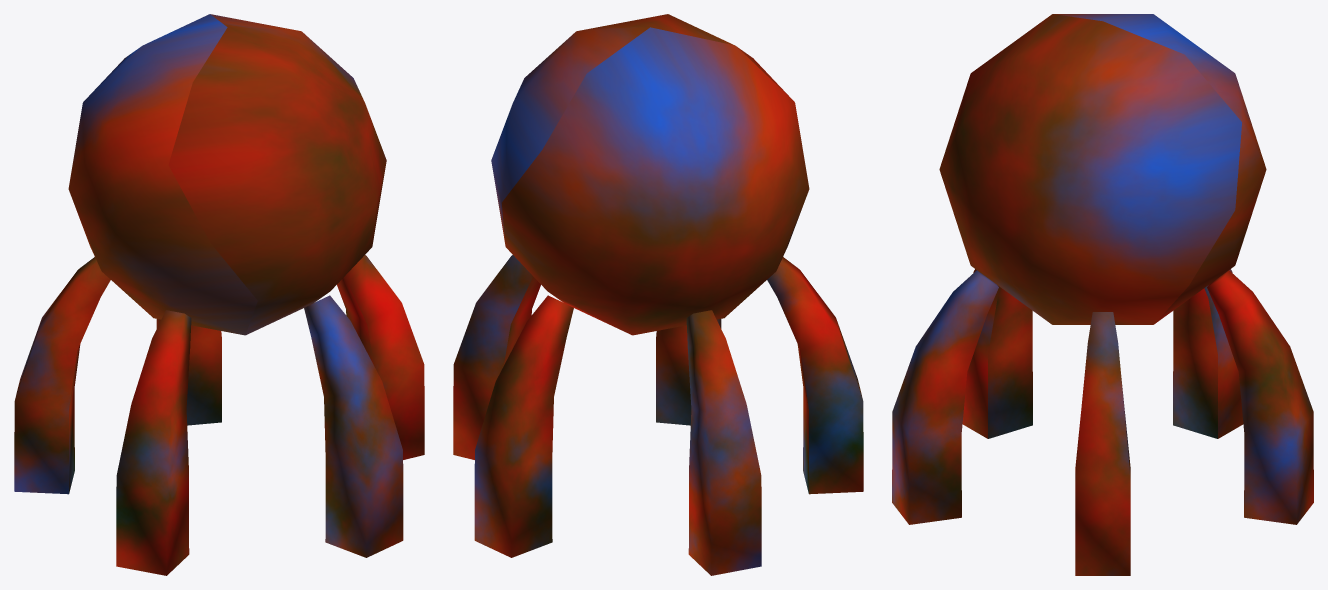
Rendered from powerCore.obj.
3 views of the same model, side by side, from view 1: azimuth 30°, elevation 25°; view 2: azimuth 150°, elevation 25°; view 3: azimuth 270°, elevation 25° (orthographic).
Visible parts, largest first — view 1: sphere, stand; view 2: sphere, stand; view 3: sphere, stand.
Boxes of the visible parts, x1,y1,x2,y2 form: sphere: (68,14,386,335); stand: (14,255,424,575); sphere: (491,14,809,335); stand: (453,255,863,575); sphere: (939,14,1266,324); stand: (892,269,1313,575).
Size of the model in its own units: 6.38 by 8.15 by 6.71.
